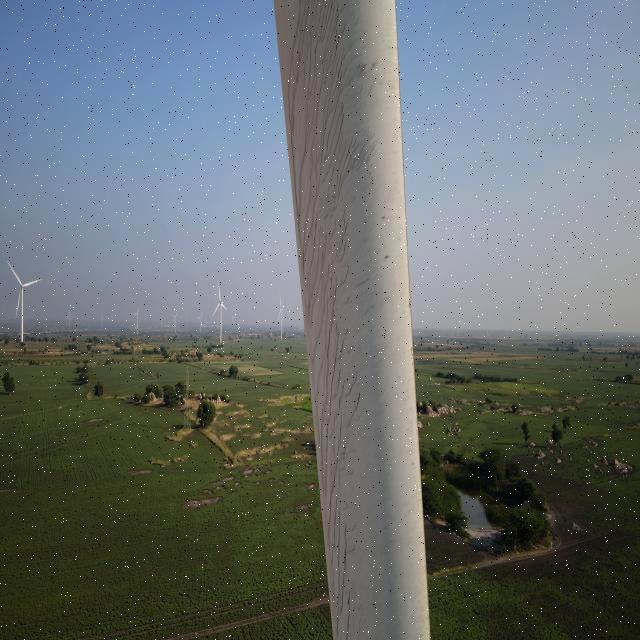Dirt: (278, 0, 389, 633)
